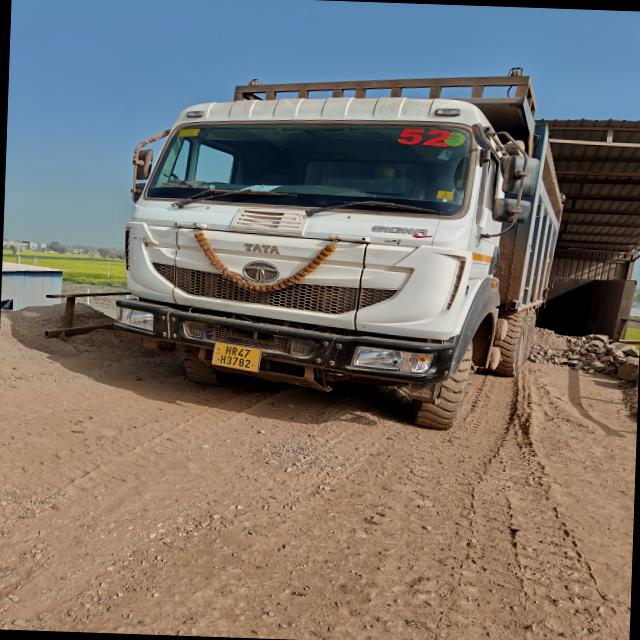license_plate: (213, 343, 261, 371)
